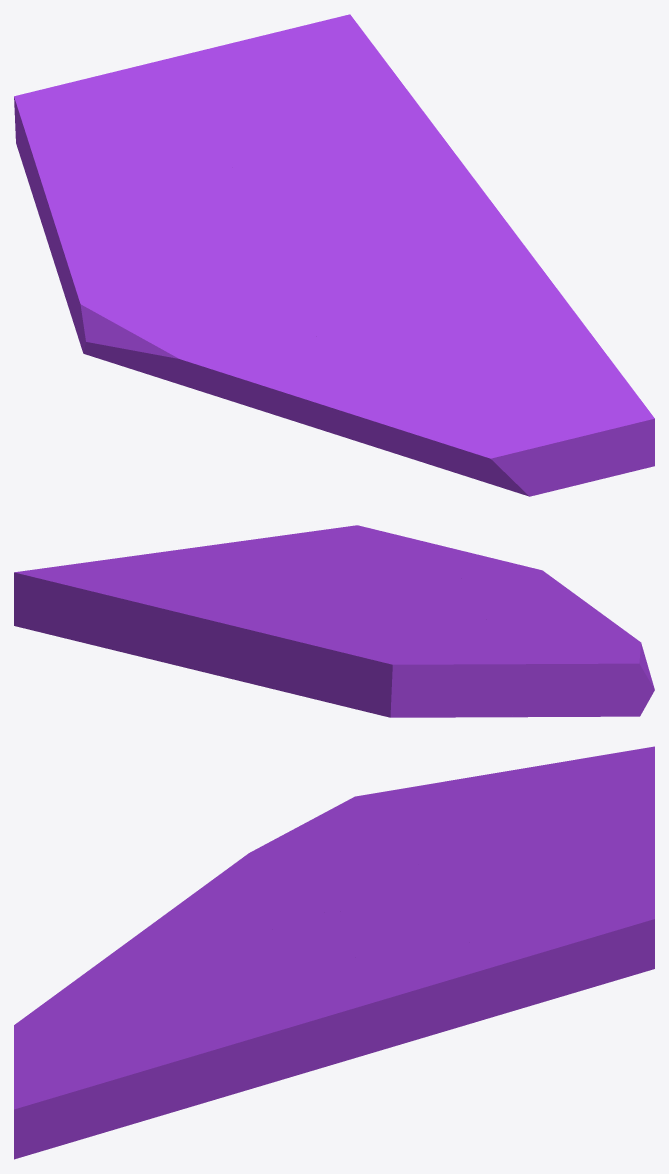
The model's file is Window_144_2_chunks.fbx.
The picture shows the model from 3 angles, top to bottom: view 1: azimuth 30°, elevation 25°; view 2: azimuth 150°, elevation 25°; view 3: azimuth 270°, elevation 25°; orthographic projection. The views are drawn at different scales.
Visible parts, largest first — view 1: Window_144_2_7, Window_144_2_30, Window_144_2_25, Window_144_2_12, Window_144_2_32, Window_144_2_8, Window_144_2_21, Window_144_2_0, Window_144_2_18, Window_144_2_29, Window_144_2_20, Window_144_2_26 (+13 smaller); view 2: Window_144_2_33, Window_144_2_30, Window_144_2_25, Window_144_2_32, Window_144_2_0, Window_144_2_8, Window_144_2_21, Window_144_2_7, Window_144_2_12, Window_144_2_29, Window_144_2_18, Window_144_2_20 (+14 smaller); view 3: Window_144_2_21, Window_144_2_7, Window_144_2_20, Window_144_2_32, Window_144_2_30, Window_144_2_8, Window_144_2_25, Window_144_2_12, Window_144_2_29, Window_144_2_18, Window_144_2_0, Window_144_2_26 (+13 smaller).
Part boxes in pixels (x1,y1,x2,y2): Window_144_2_7: (426, 371, 654, 496); Window_144_2_30: (14, 71, 248, 176); Window_144_2_25: (19, 128, 173, 279); Window_144_2_12: (267, 332, 468, 456); Window_144_2_32: (217, 14, 397, 158); Window_144_2_8: (429, 321, 618, 410); Window_144_2_21: (340, 94, 493, 248); Window_144_2_0: (70, 270, 215, 360); Window_144_2_18: (316, 204, 465, 322); Window_144_2_29: (250, 77, 409, 195); Window_144_2_20: (442, 205, 581, 321); Window_144_2_26: (226, 187, 342, 269); Window_144_2_33: (43, 579, 278, 688); Window_144_2_30: (233, 609, 430, 717); Window_144_2_25: (380, 633, 601, 717); Window_144_2_32: (14, 565, 298, 640); Window_144_2_0: (516, 629, 654, 711); Window_144_2_8: (275, 530, 514, 580); Window_144_2_21: (83, 550, 294, 589); Window_144_2_7: (317, 525, 548, 580); Window_144_2_12: (465, 575, 609, 619); Window_144_2_29: (68, 563, 314, 608); Window_144_2_18: (278, 564, 393, 598); Window_144_2_20: (177, 536, 328, 566); Window_144_2_21: (311, 927, 543, 1069); Window_144_2_7: (14, 993, 175, 1159); Window_144_2_20: (156, 984, 351, 1092); Window_144_2_32: (495, 854, 654, 967); Window_144_2_30: (481, 746, 654, 875); Window_144_2_8: (90, 983, 215, 1086); Window_144_2_25: (400, 754, 608, 839); Window_144_2_12: (31, 906, 238, 1012); Window_144_2_29: (416, 876, 554, 970); Window_144_2_18: (209, 917, 403, 999); Window_144_2_0: (264, 789, 401, 868); Window_144_2_26: (331, 867, 446, 928).
Size of the model in its own units: 919 by 482 by 1165.
